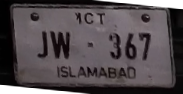3: (106, 29, 124, 60)
6: (124, 31, 139, 61)
7: (137, 30, 152, 63)
J: (32, 30, 49, 61)
W: (50, 29, 73, 60)
